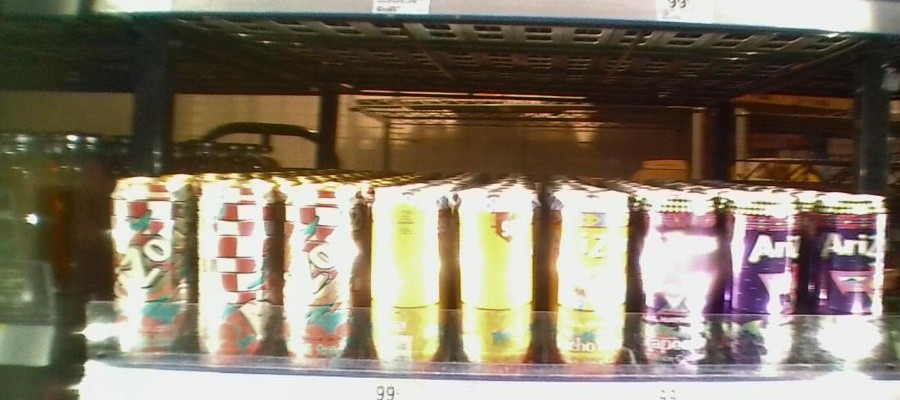bottle: (450, 174, 546, 376), (279, 170, 366, 371), (108, 163, 191, 365), (195, 165, 277, 366), (548, 180, 627, 378), (370, 175, 449, 372), (809, 188, 890, 370), (722, 190, 800, 377), (633, 183, 713, 358)
